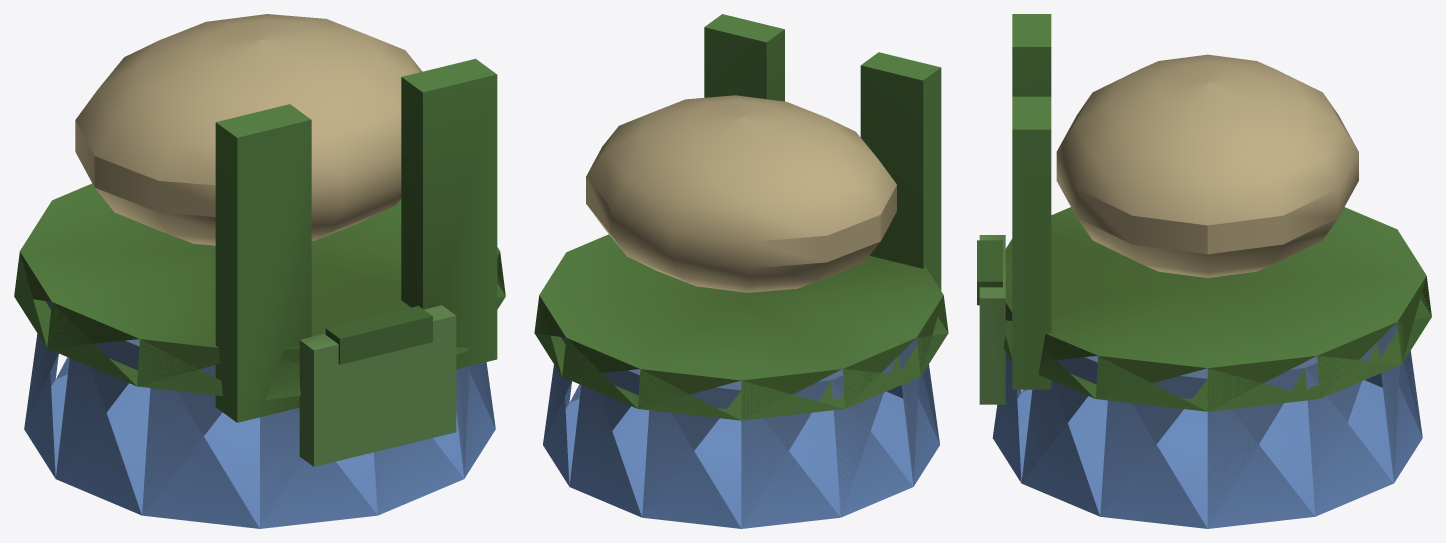
Rendered from p-boy-body.glb.
3 views of the same model, side by side, from view 1: azimuth 30°, elevation 25°; view 2: azimuth 150°, elevation 25°; view 3: azimuth 270°, elevation 25° (orthographic). The views are drawn at different scales.
Visible parts, largest first — view 1: player_p-boy-body; view 2: player_p-boy-body; view 3: player_p-boy-body.
Boxes of the visible parts, x1,y1,x2,y2 form: player_p-boy-body: [14, 14, 505, 528]; player_p-boy-body: [534, 14, 948, 528]; player_p-boy-body: [977, 14, 1431, 528].
Bounding box in the file's own units: 0.344 × 0.31 × 0.349.
